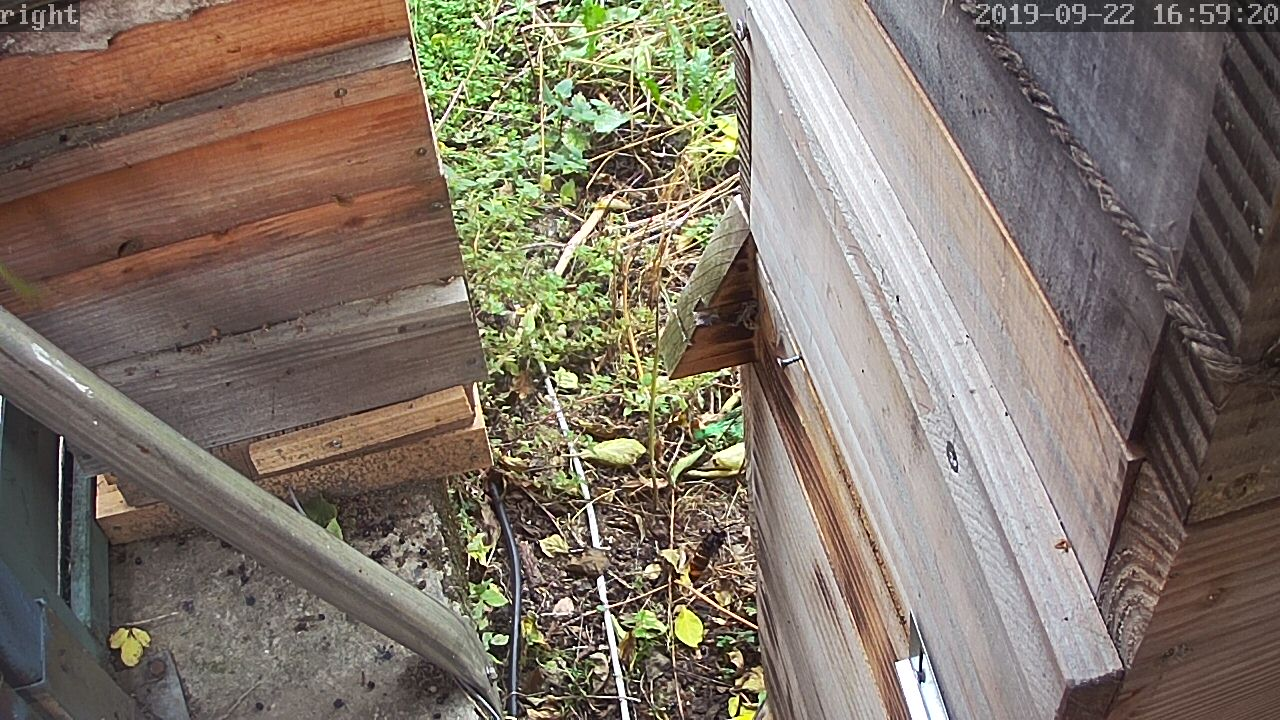hornet: (680, 519, 732, 587)
